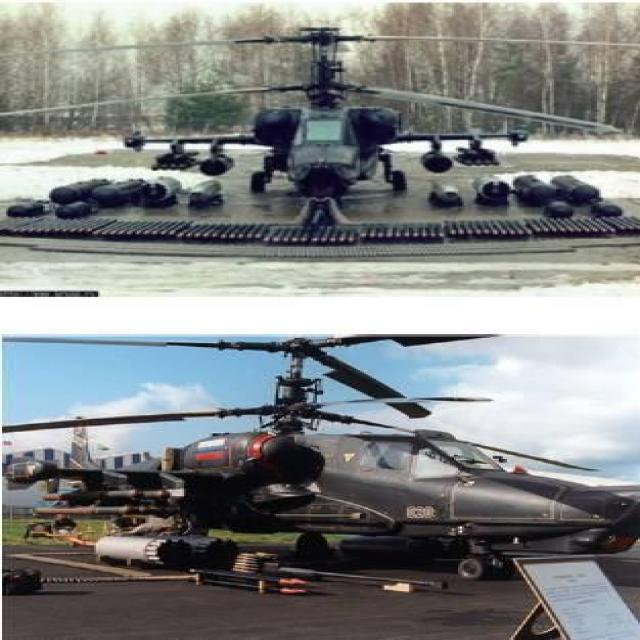MIL_HELO: (13, 332, 640, 576), (0, 18, 640, 213)
